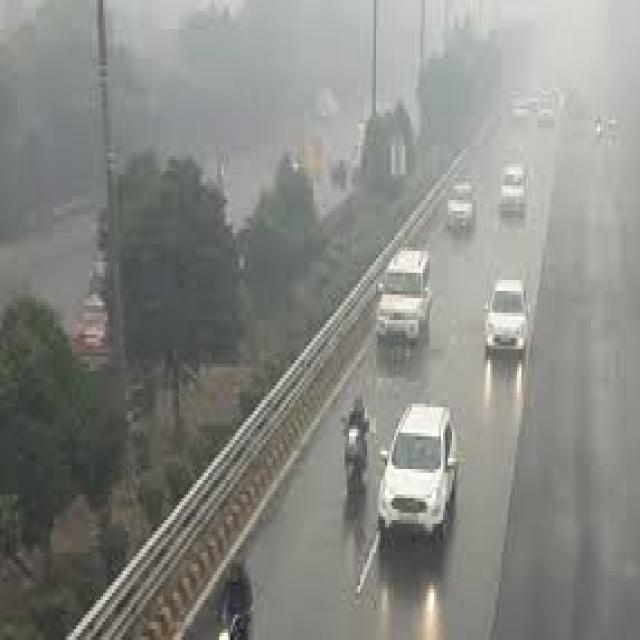no-low traffic: (338, 49, 604, 632)
